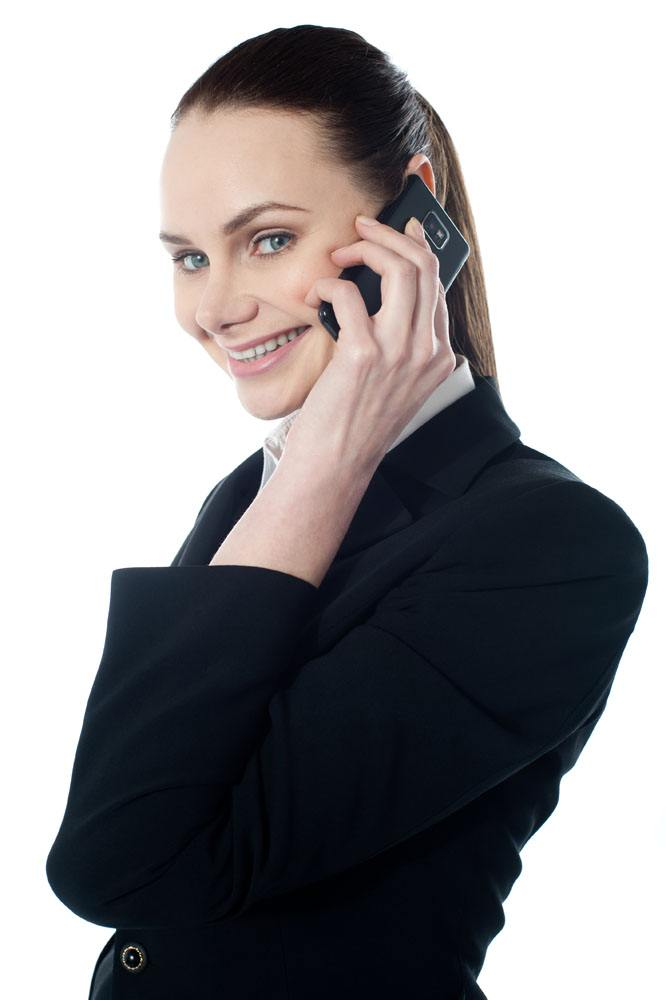calling: (294, 173, 479, 457)
